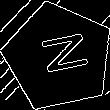N_W: (30, 32, 88, 82)
